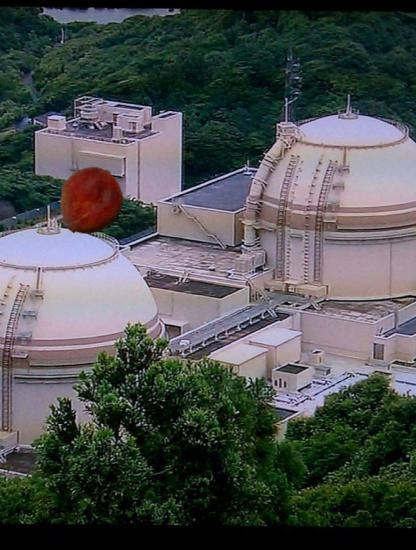Peach: (55, 166, 126, 237)
